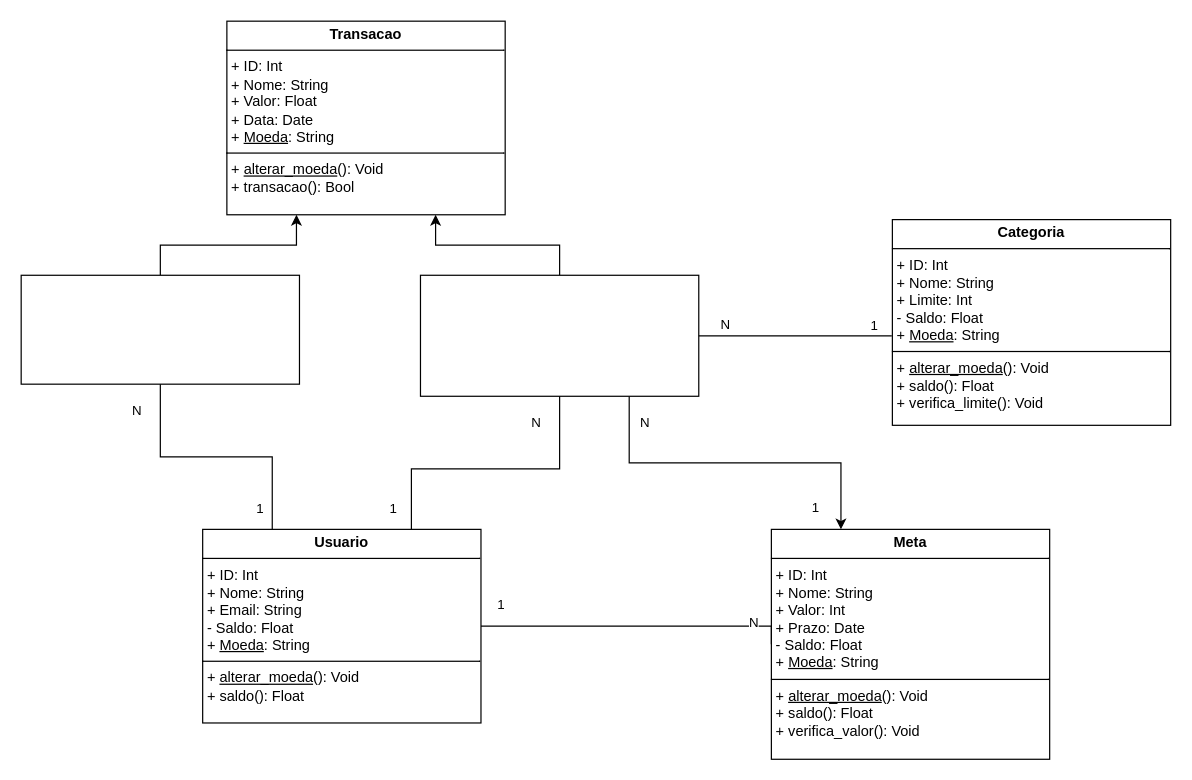
Some shapes in this 1192 by 780 pixel diagram are drawn without their labels. The centre of each missing label's shape, as x and y in pixels:
Pagamento + Forma_Pagamento: String + Fonte: String + transacao(): Bool: pixel 559 335
Provento + Fonte: String + transacao(): Bool: pixel 159 329
